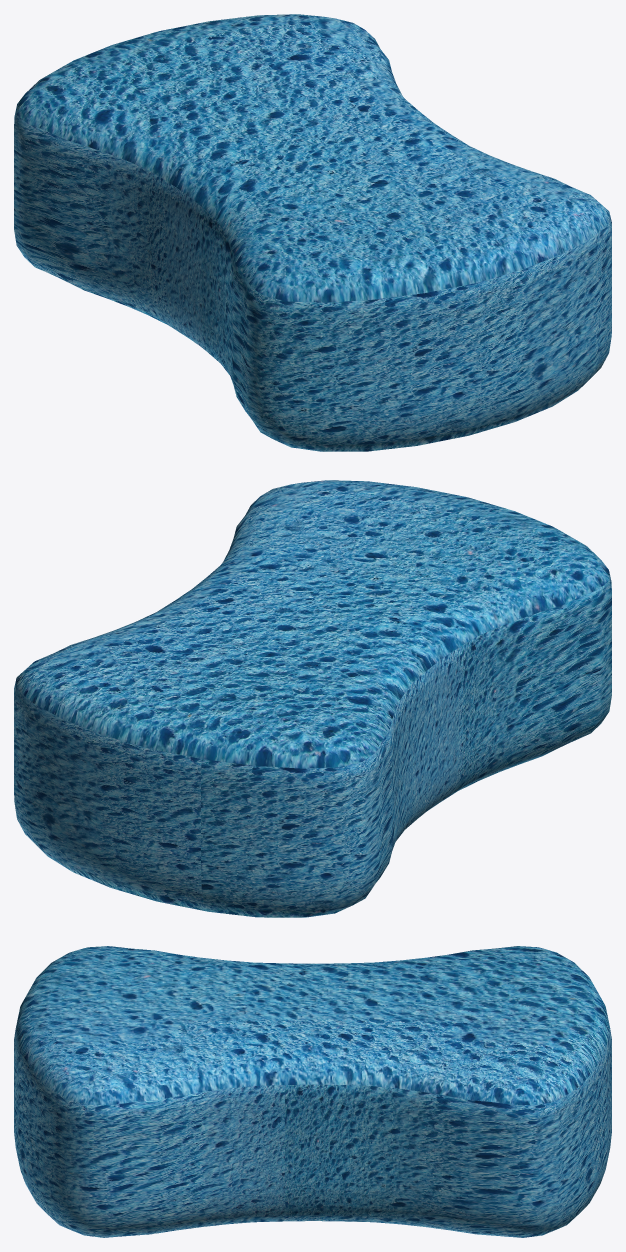
File: building_sponge (1).fbx
The picture shows the model from 3 angles, top to bottom: view 1: azimuth 30°, elevation 25°; view 2: azimuth 150°, elevation 25°; view 3: azimuth 270°, elevation 25°; orthographic projection. The views are drawn at different scales.
Visible parts, largest first — view 1: pCube1; view 2: pCube1; view 3: pCube1.
Part boxes in pixels (x1,y1,x2,y2): pCube1: [14, 14, 611, 451]; pCube1: [14, 480, 611, 917]; pCube1: [14, 946, 611, 1237].
Bounding box in the file's own units: 8.25 × 4.4 × 13.35.
Materials: 1 (1 with a texture image).
